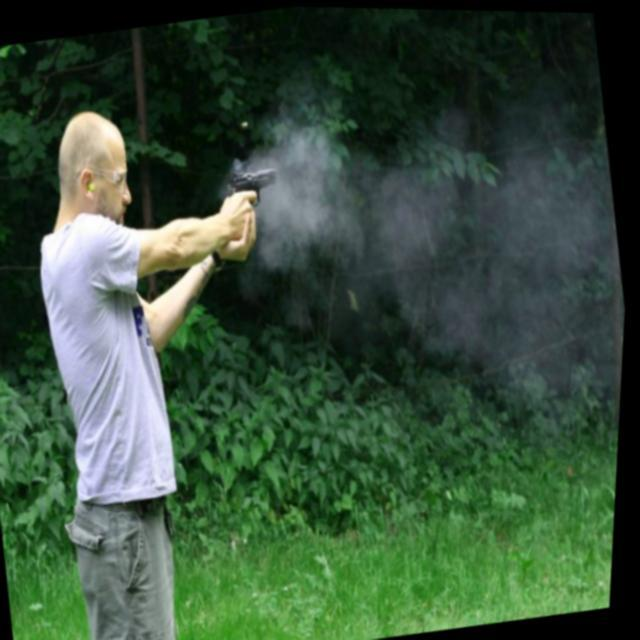weapon: (224, 162, 284, 210)
